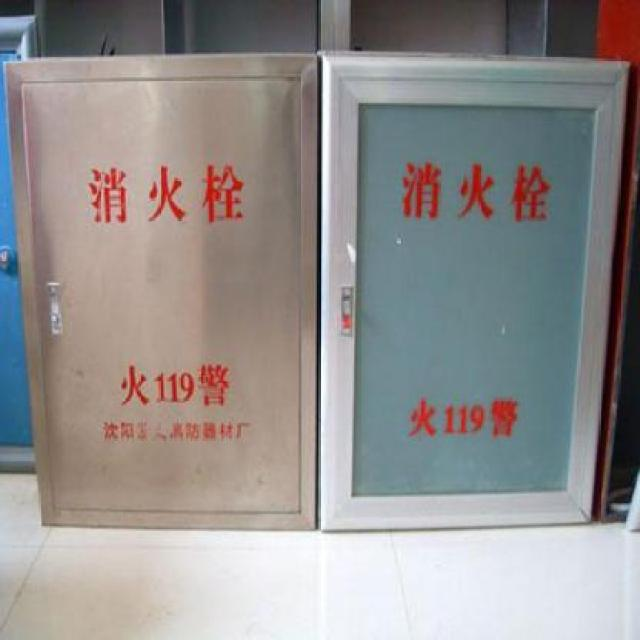firehydrant: (0, 45, 319, 537), (317, 45, 631, 537)
